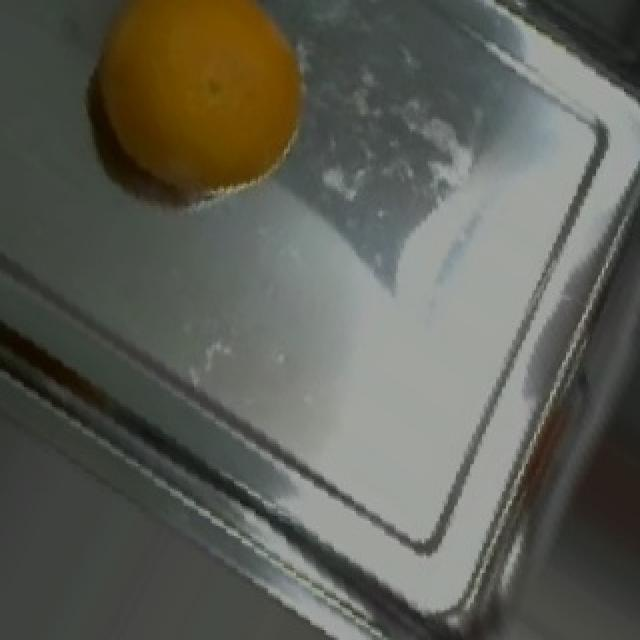Fruit: (60, 0, 332, 228)
